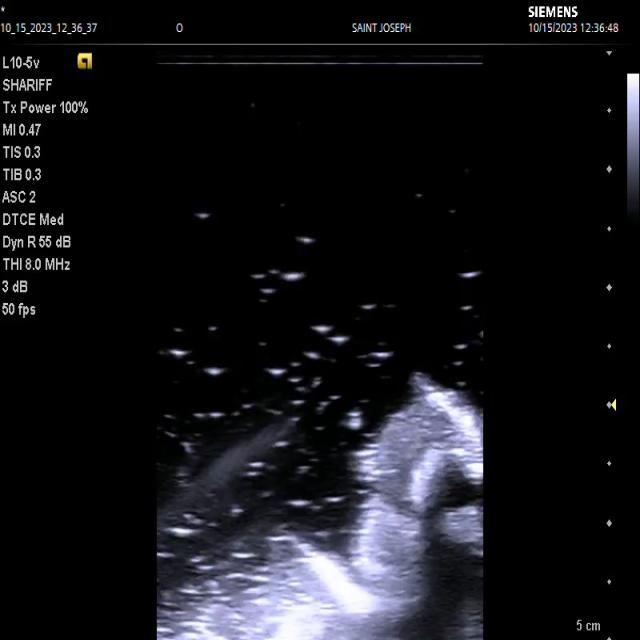tissue: (164, 374, 476, 640)
